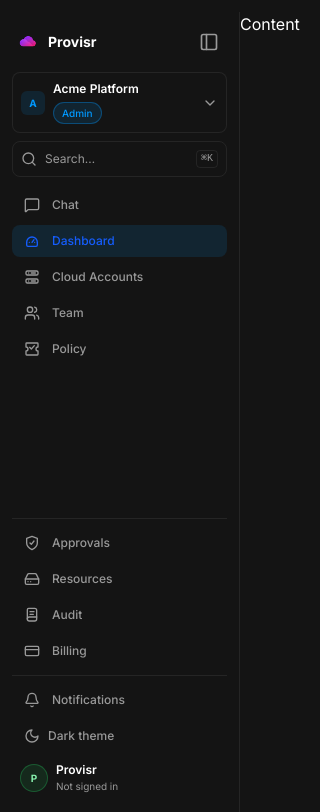
it: DashboardShell › opens workspace options while collapsed
Check: the link with test id "nav-team" is shown, box [24,305,84,321]
Click the button with test id "sidebar-collapse-toggle": (209, 42) [191,24,227,60]
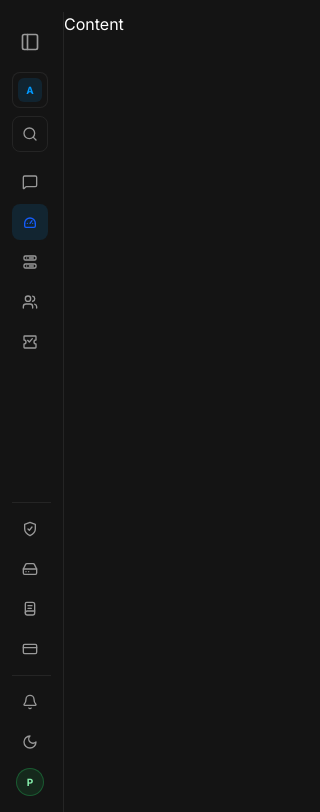
Click the button with test id "workspace-switcher-trigger": (30, 90) [12,72,48,108]
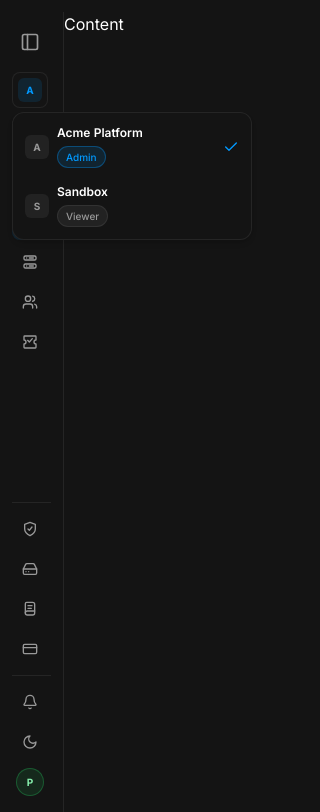
Check: the menu item with test id "workspace-option-sandbox" is shown, box [17,176,247,235]
